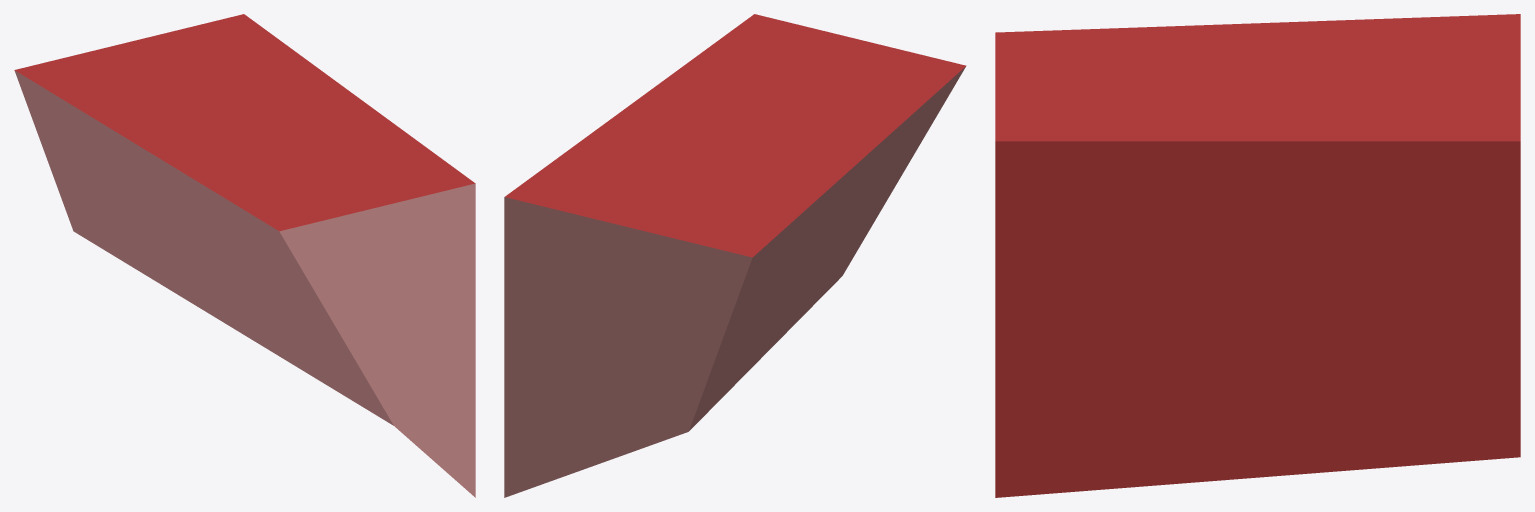
Rendered from wrong2.fbx.
3 renders of one model, left to right at view 1: azimuth 30°, elevation 25°; view 2: azimuth 150°, elevation 25°; view 3: azimuth 270°, elevation 25°, orthographic. The views are drawn at different scales.
Visible parts, largest first — view 1: wrong2; view 2: wrong2; view 3: wrong2.
Part boxes in pixels (left/top/right/bottom): wrong2: left=14, top=14, right=475, bottom=497; wrong2: left=504, top=14, right=966, bottom=497; wrong2: left=995, top=14, right=1520, bottom=497.
Size of the model in its own units: 33.43 by 43.72 by 58.33.
